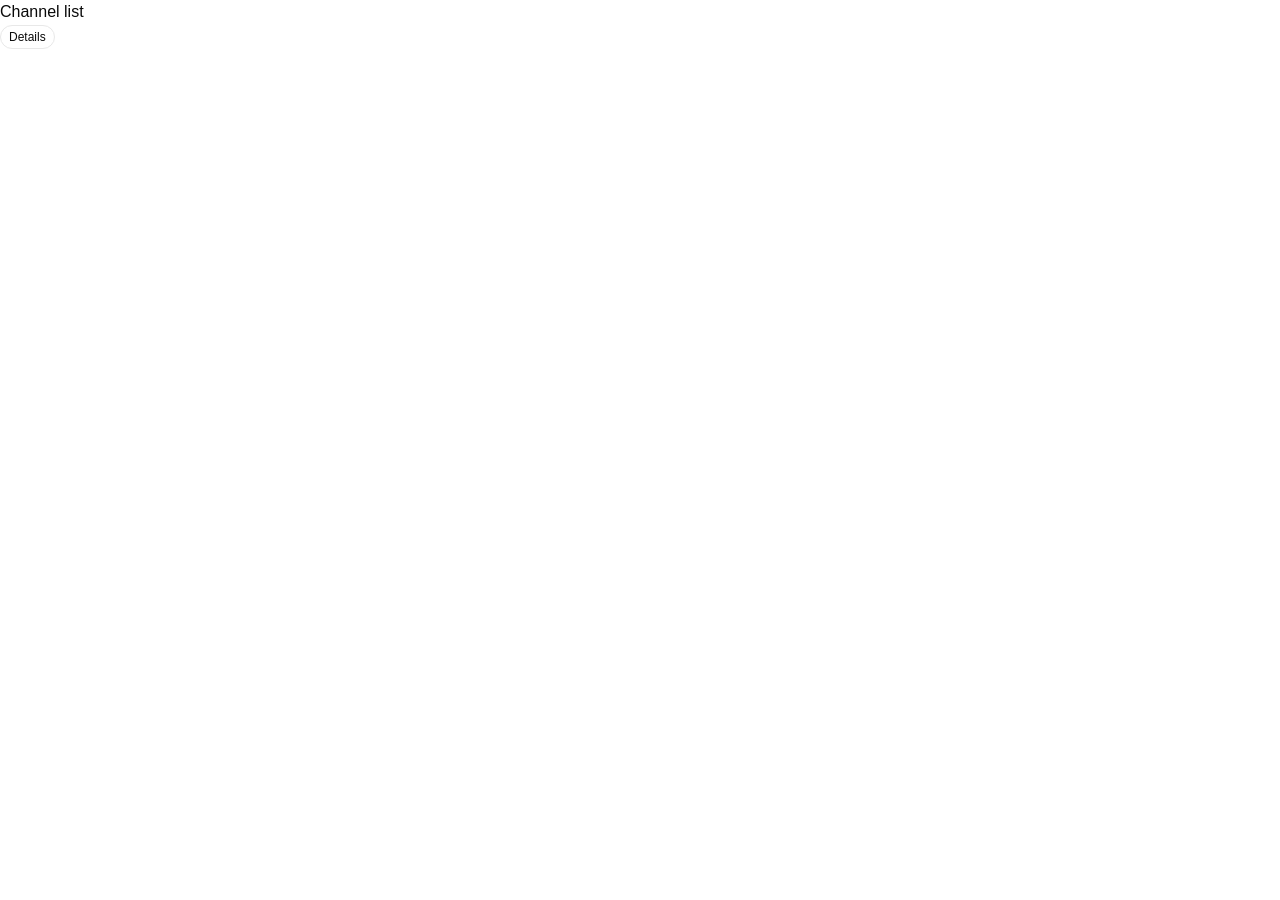
an empty list says which requests the gateway does not log
The width and height of the screenshot is (1280, 900).
Expected: the heading "Channel list" is shown, x1=0 y1=3 x2=84 y2=20
Click the button with aria-label "Details of prod" at x=27, y=37, box x1=0 y1=25 x2=55 y2=49
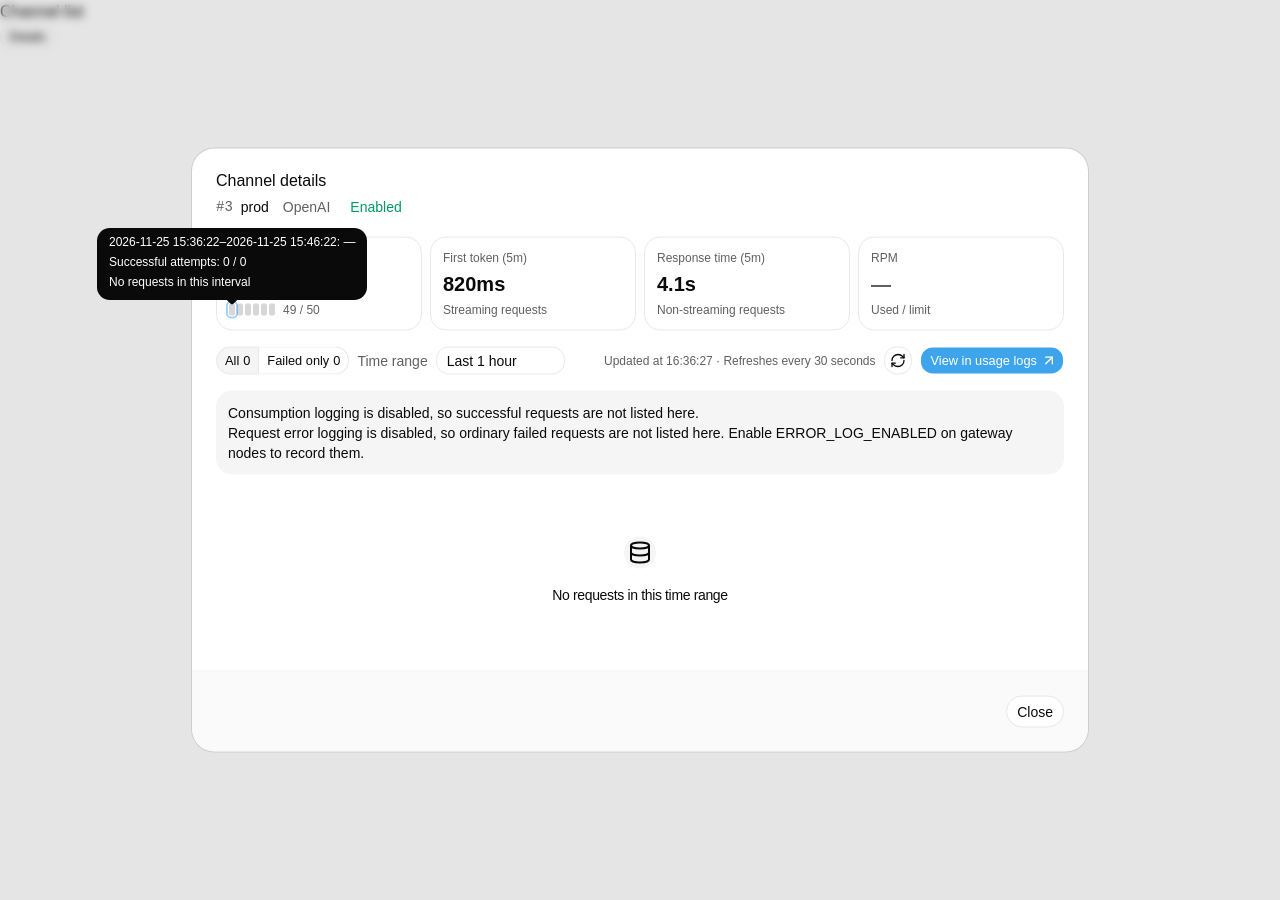
Result: the text "No requests in this time range" is shown at x1=552 y1=584 x2=728 y2=604
Result: the text "Consumption logging is disabled, so successful requests are not listed here." is shown at x1=228 y1=404 x2=699 y2=420
Result: the text "Request error logging is disabled, so ordinary failed requests are not listed here. Enable ERROR_LOG_ENABLED on gateway " is shown at x1=228 y1=424 x2=1012 y2=460
